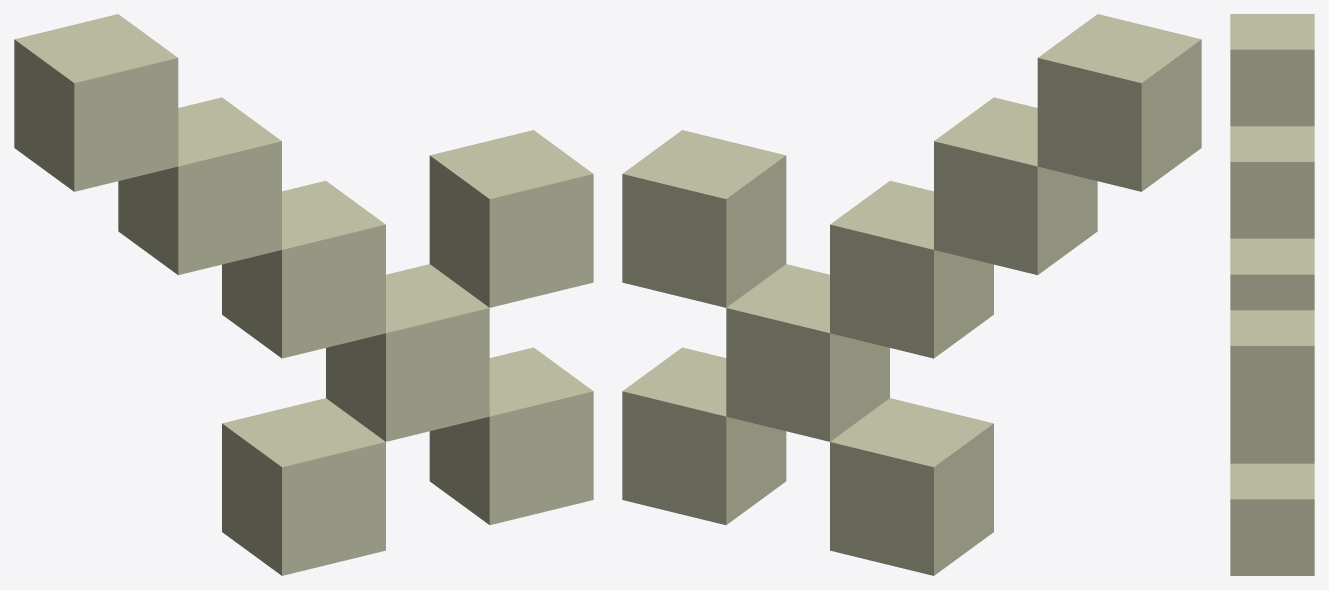
File: Knife-Tan.vox.obj
The picture shows the model from 3 angles, left to right: view 1: azimuth 30°, elevation 25°; view 2: azimuth 150°, elevation 25°; view 3: azimuth 270°, elevation 25°; orthographic projection. The views are drawn at different scales.
Size of the model in its own units: 0.5 by 0.5 by 0.1.
Materials: 1 (1 with a texture image).
